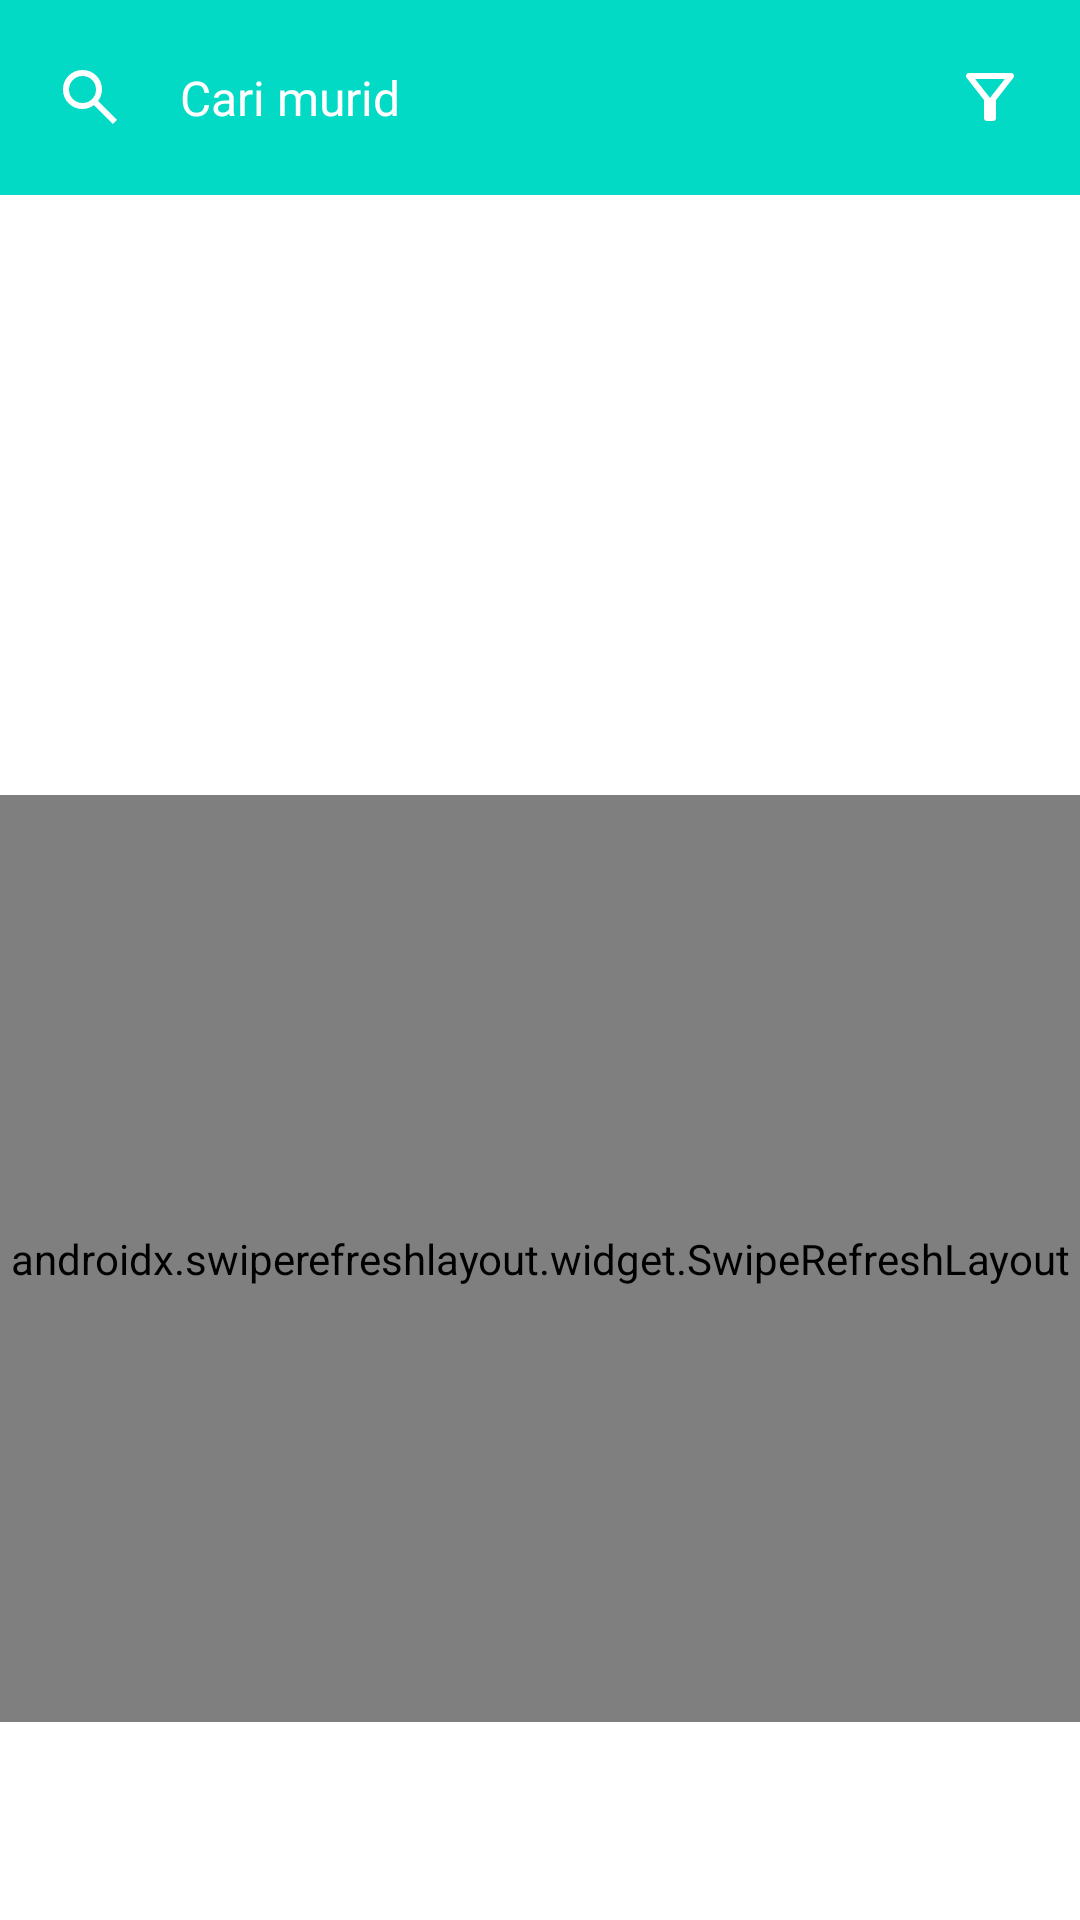

Locate icon controls on the screen. Image size 1080x1920, boxes as (x1, y1, x2, y2).
filter: (966, 73, 1014, 121)
